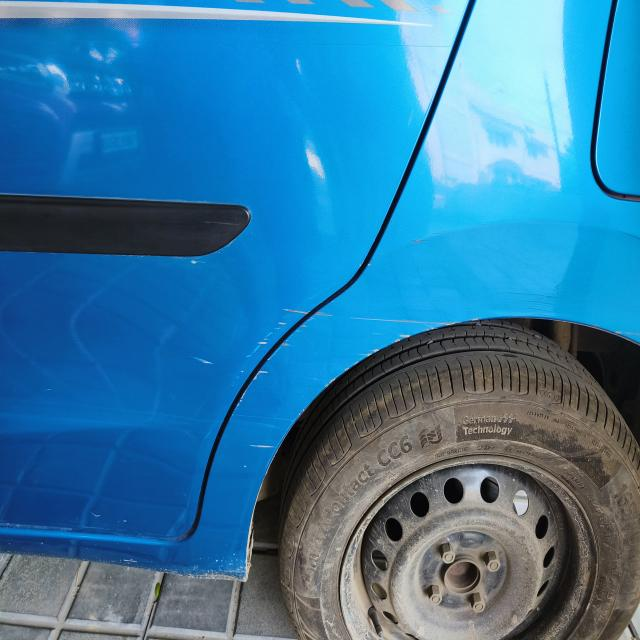scratch: (216, 298, 489, 454)
